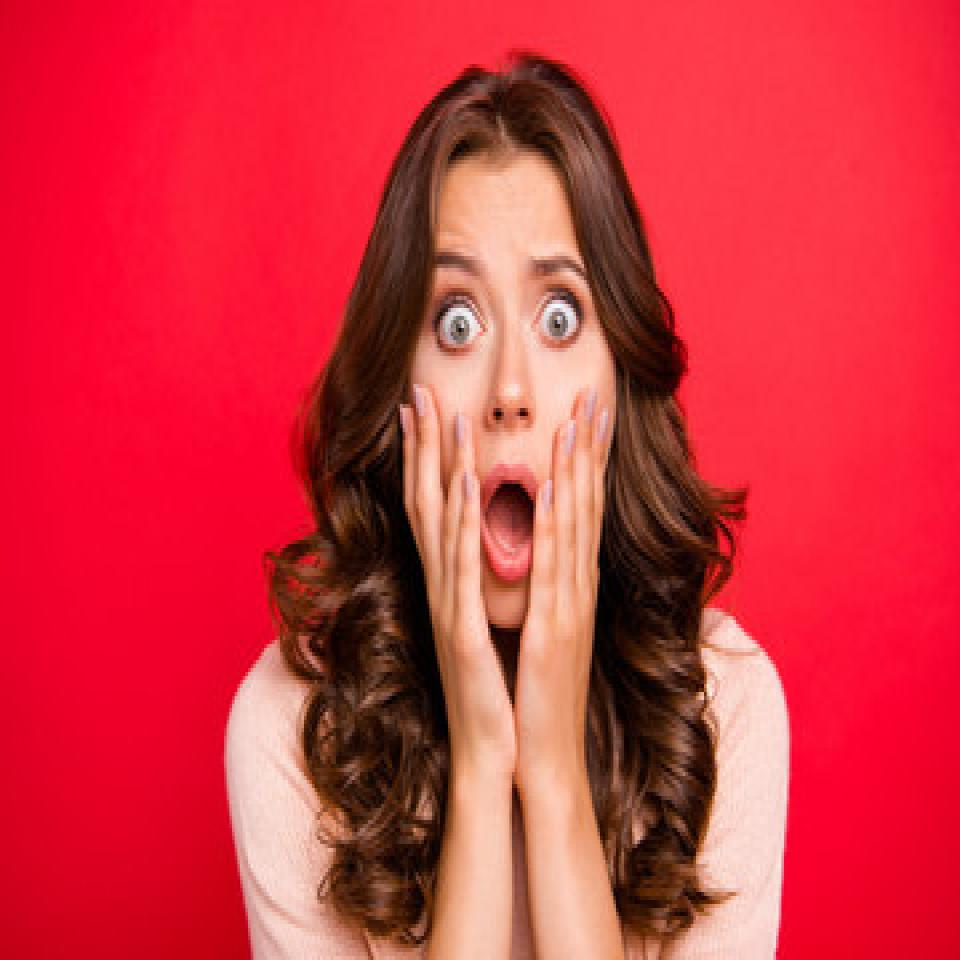Scared: (407, 170, 612, 678)
